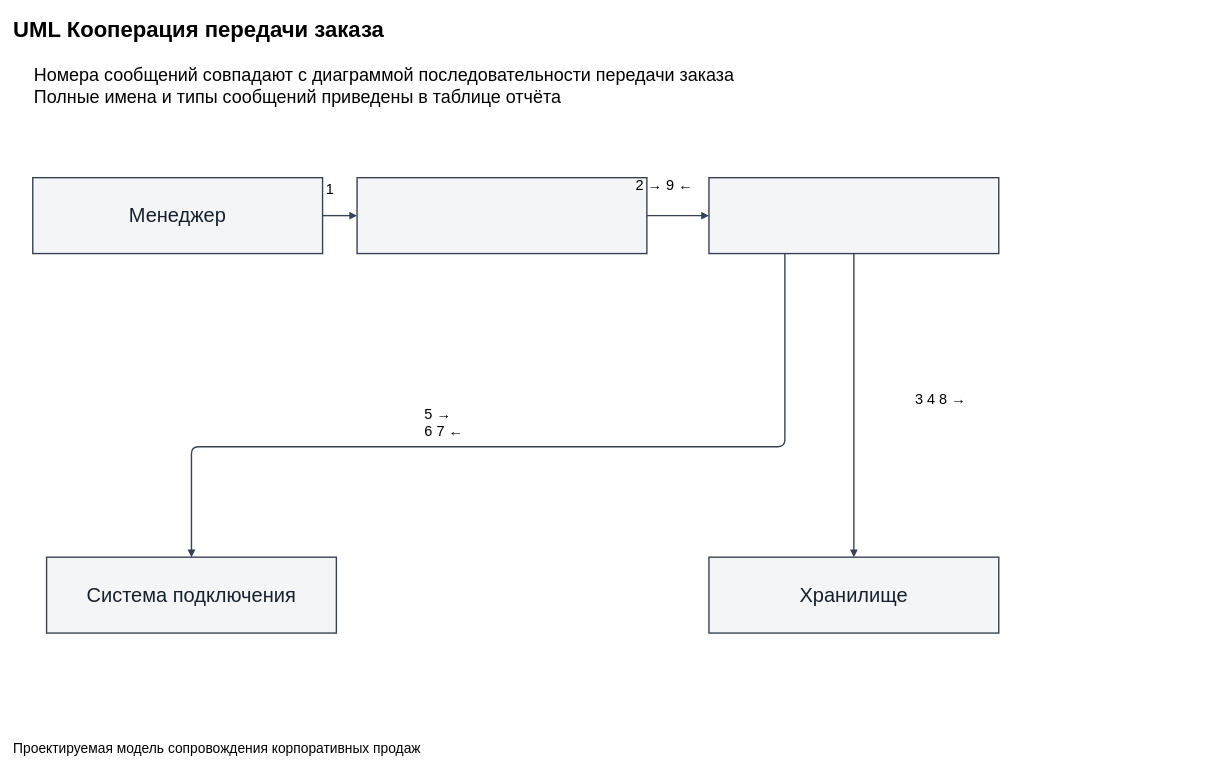
Image size: 1210x769. Some labels were removed from this diagram. The centre of each missing label's shape, as x and y in pixels:
Сервис заказа: (853,215)
Форма заказа: (501,215)
